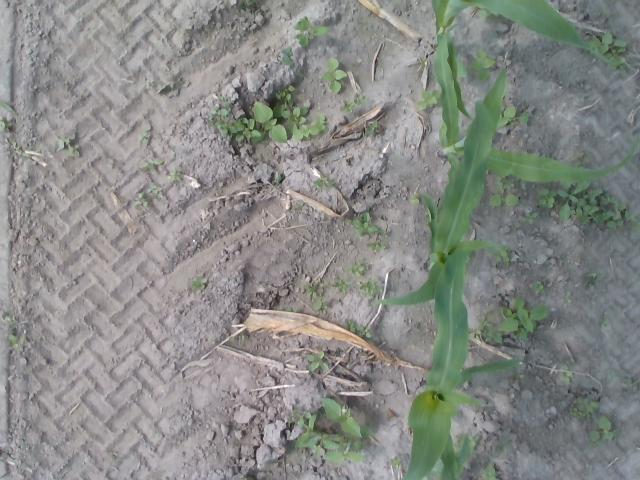Maize: (433, 33, 640, 197), (372, 57, 508, 306), (396, 242, 504, 474), (429, 0, 622, 116), (420, 433, 478, 480)
Weeds: (286, 396, 374, 464), (536, 179, 640, 233), (275, 85, 327, 141), (206, 96, 260, 142), (498, 295, 548, 340), (583, 31, 628, 74), (250, 101, 288, 144), (468, 311, 503, 345), (347, 211, 388, 237), (294, 16, 329, 46), (320, 57, 348, 94), (588, 415, 619, 447), (488, 176, 520, 206), (495, 100, 529, 128), (304, 280, 332, 314), (469, 51, 495, 82), (568, 396, 600, 419), (132, 184, 161, 208), (451, 433, 479, 457), (342, 319, 372, 341), (306, 351, 331, 373), (490, 243, 512, 268), (340, 93, 367, 113), (417, 89, 442, 109), (357, 278, 384, 296), (53, 136, 77, 154), (138, 158, 164, 173), (478, 9, 508, 22), (348, 261, 370, 278), (312, 176, 335, 192), (569, 151, 591, 167), (280, 47, 296, 67), (12, 142, 40, 153), (6, 334, 24, 351), (332, 276, 351, 292), (557, 364, 572, 384), (481, 463, 498, 480), (135, 130, 151, 146), (600, 10, 618, 24), (190, 276, 208, 290), (583, 272, 602, 285), (364, 120, 381, 134), (0, 115, 13, 133), (622, 378, 640, 391), (521, 212, 538, 224), (366, 242, 386, 252), (533, 280, 547, 294), (496, 438, 510, 452), (388, 456, 402, 469), (237, 0, 255, 9), (0, 314, 13, 324), (563, 290, 572, 304), (170, 170, 180, 181), (600, 316, 610, 326), (284, 306, 298, 312), (410, 195, 420, 203), (514, 373, 524, 378), (276, 176, 282, 184), (292, 205, 300, 210)
